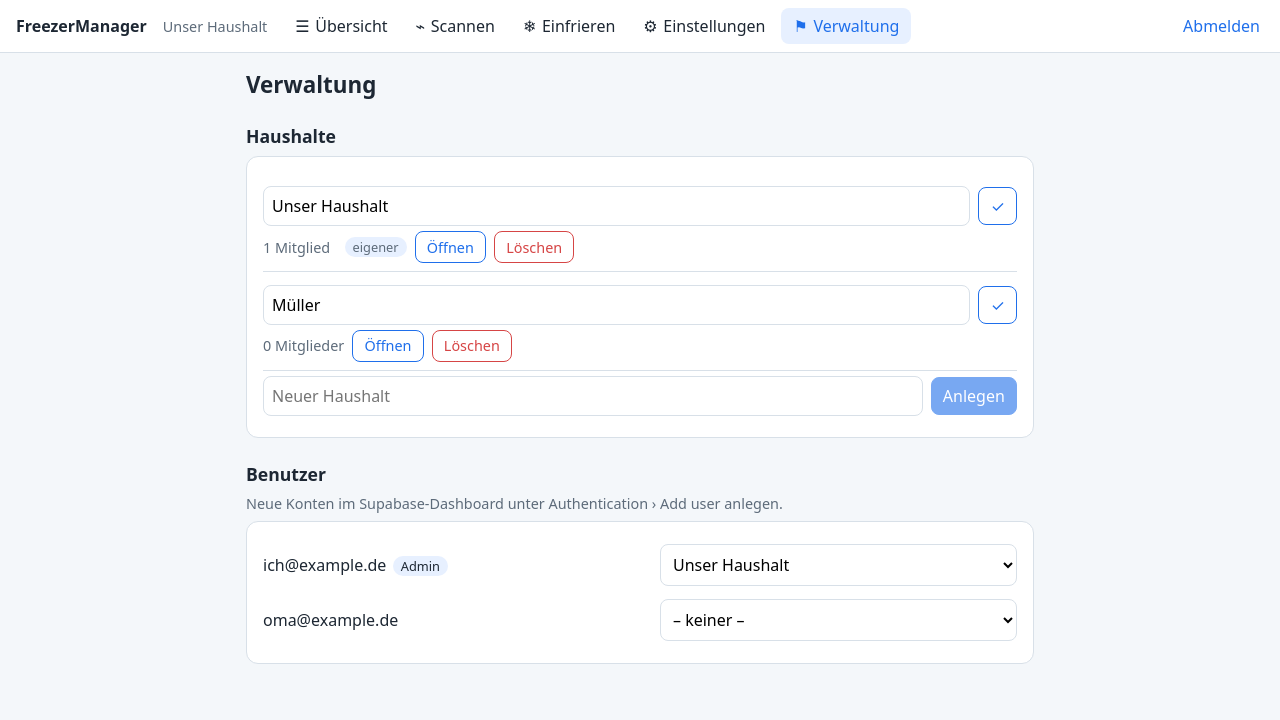
Test: deleting the open household returns to the own household
The image size is (1280, 720).
What coordinates should you click on to do the following:
click the button with aria-label "Müller öffnen"
I would click on:
 (388, 346)
Its box is top-left (352, 330), bottom-right (424, 362).
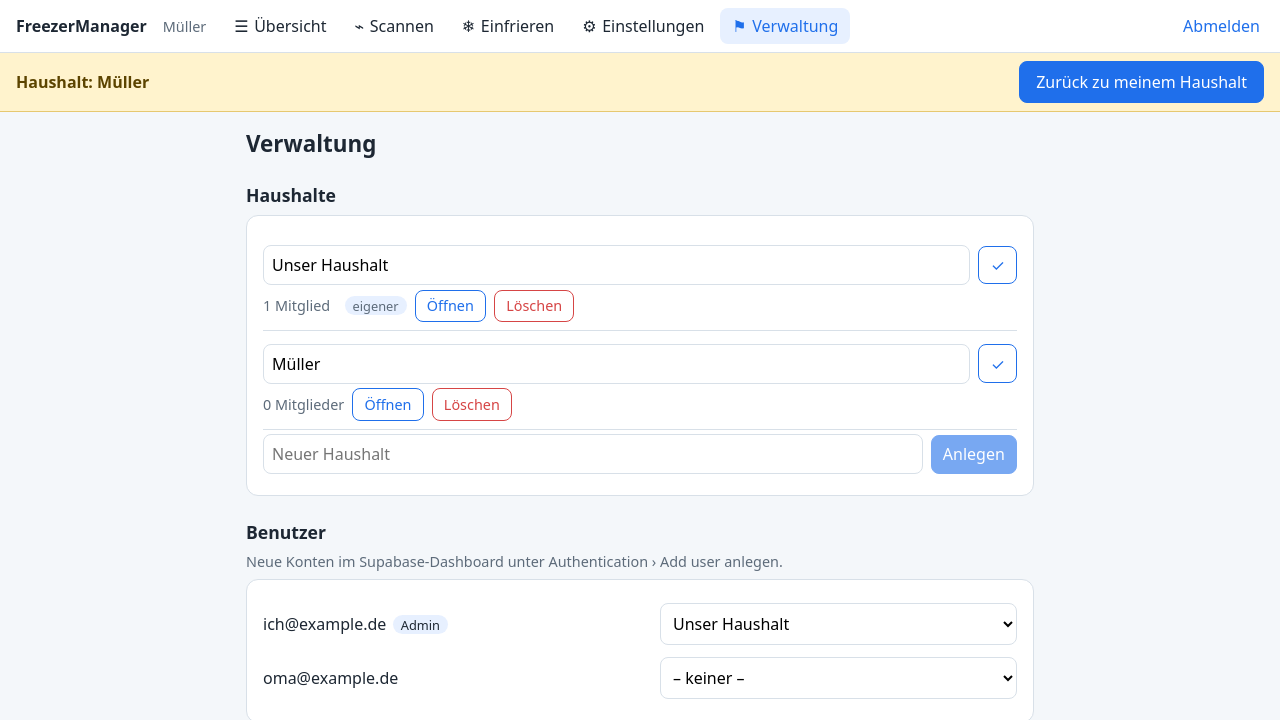
Check: the text "Haushalt: Müller" is shown, box top-left (16, 71), bottom-right (149, 93)
What coordinates should you click on to do the following:
click the button with aria-label "Müller löschen"
I would click on:
 (472, 404)
Its box is top-left (432, 388), bottom-right (512, 420).
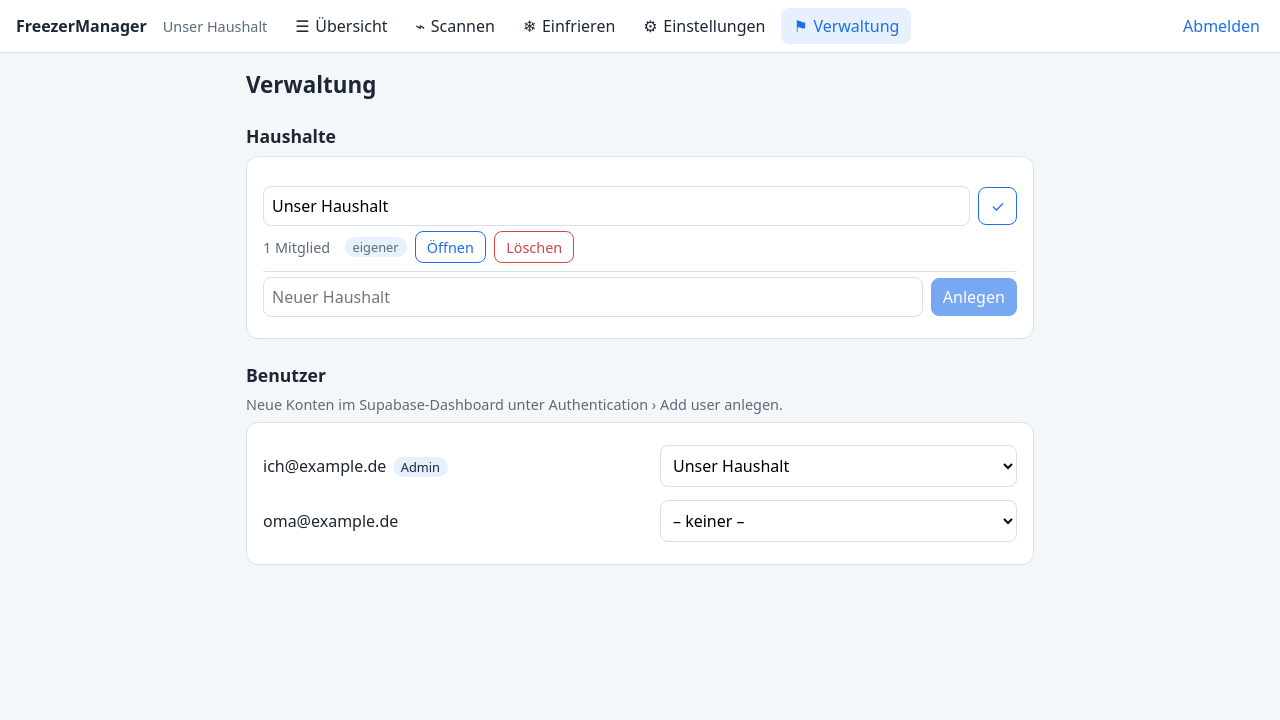
Check: the field labelled "Haushalt Müller" is not shown
Check: the text "Haushalt: Müller" is gone
Check: the button "Zurück zu meinem Haushalt" is gone
